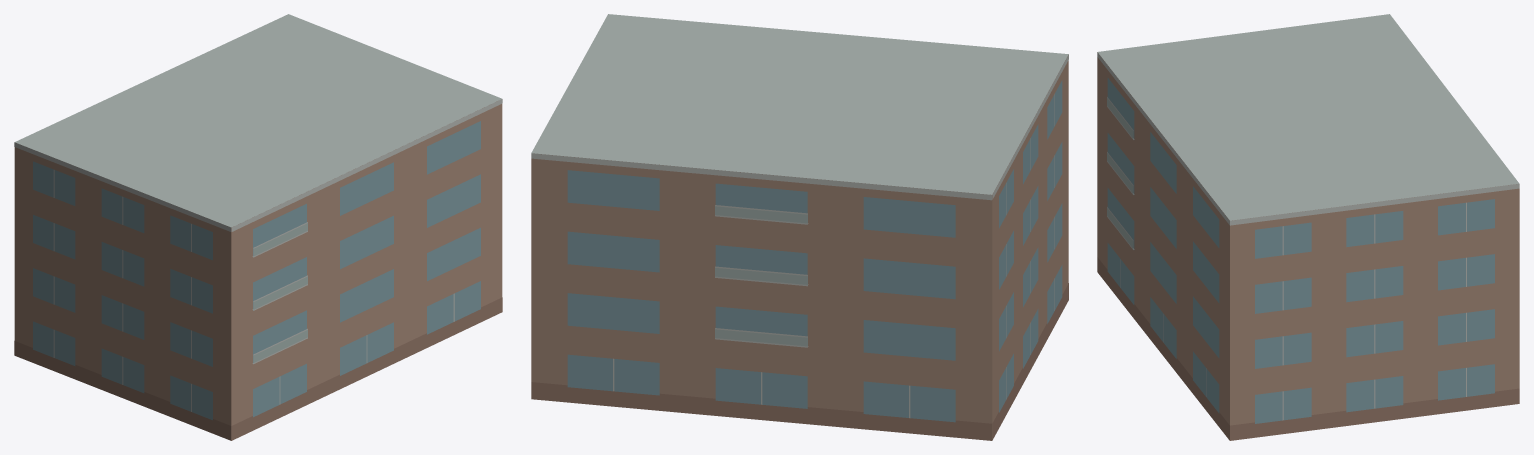
Rendered from survey-upis-32945427.glb.
3 views of the same model, side by side, from view 1: azimuth 30°, elevation 25°; view 2: azimuth 150°, elevation 25°; view 3: azimuth 270°, elevation 25° (orthographic). The views are drawn at different scales.
Parts seen in each view (by area): view 1: survey-upis-32945427.tmp; view 2: survey-upis-32945427.tmp; view 3: survey-upis-32945427.tmp.
Boxes of the visible parts, left/top/right/bottom form: survey-upis-32945427.tmp: left=14, top=14, right=502, bottom=440; survey-upis-32945427.tmp: left=531, top=14, right=1068, bottom=440; survey-upis-32945427.tmp: left=1097, top=14, right=1519, bottom=440.
Bounding box in the file's own units: 22.26 × 11.05 × 19.21.
